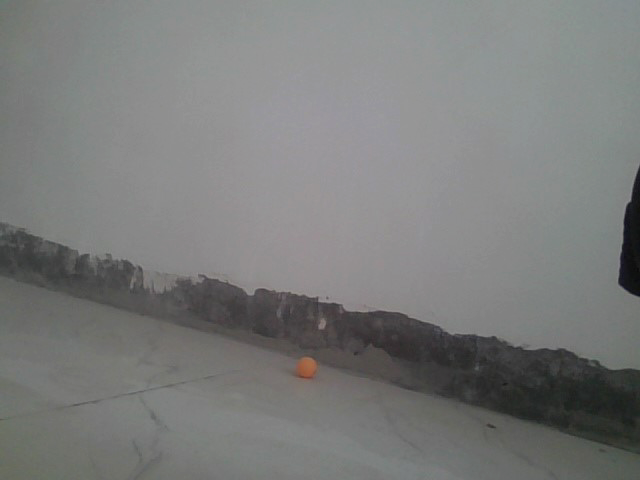ball: (298, 357, 316, 379)
